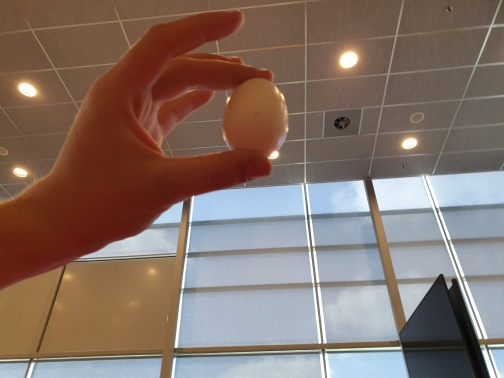egg: (224, 77, 288, 162)
